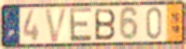0: (145, 6, 163, 41)
4: (22, 7, 42, 44)
6: (118, 6, 141, 43)
B: (94, 7, 117, 42)
E: (68, 6, 93, 44)
V: (43, 7, 70, 44)
